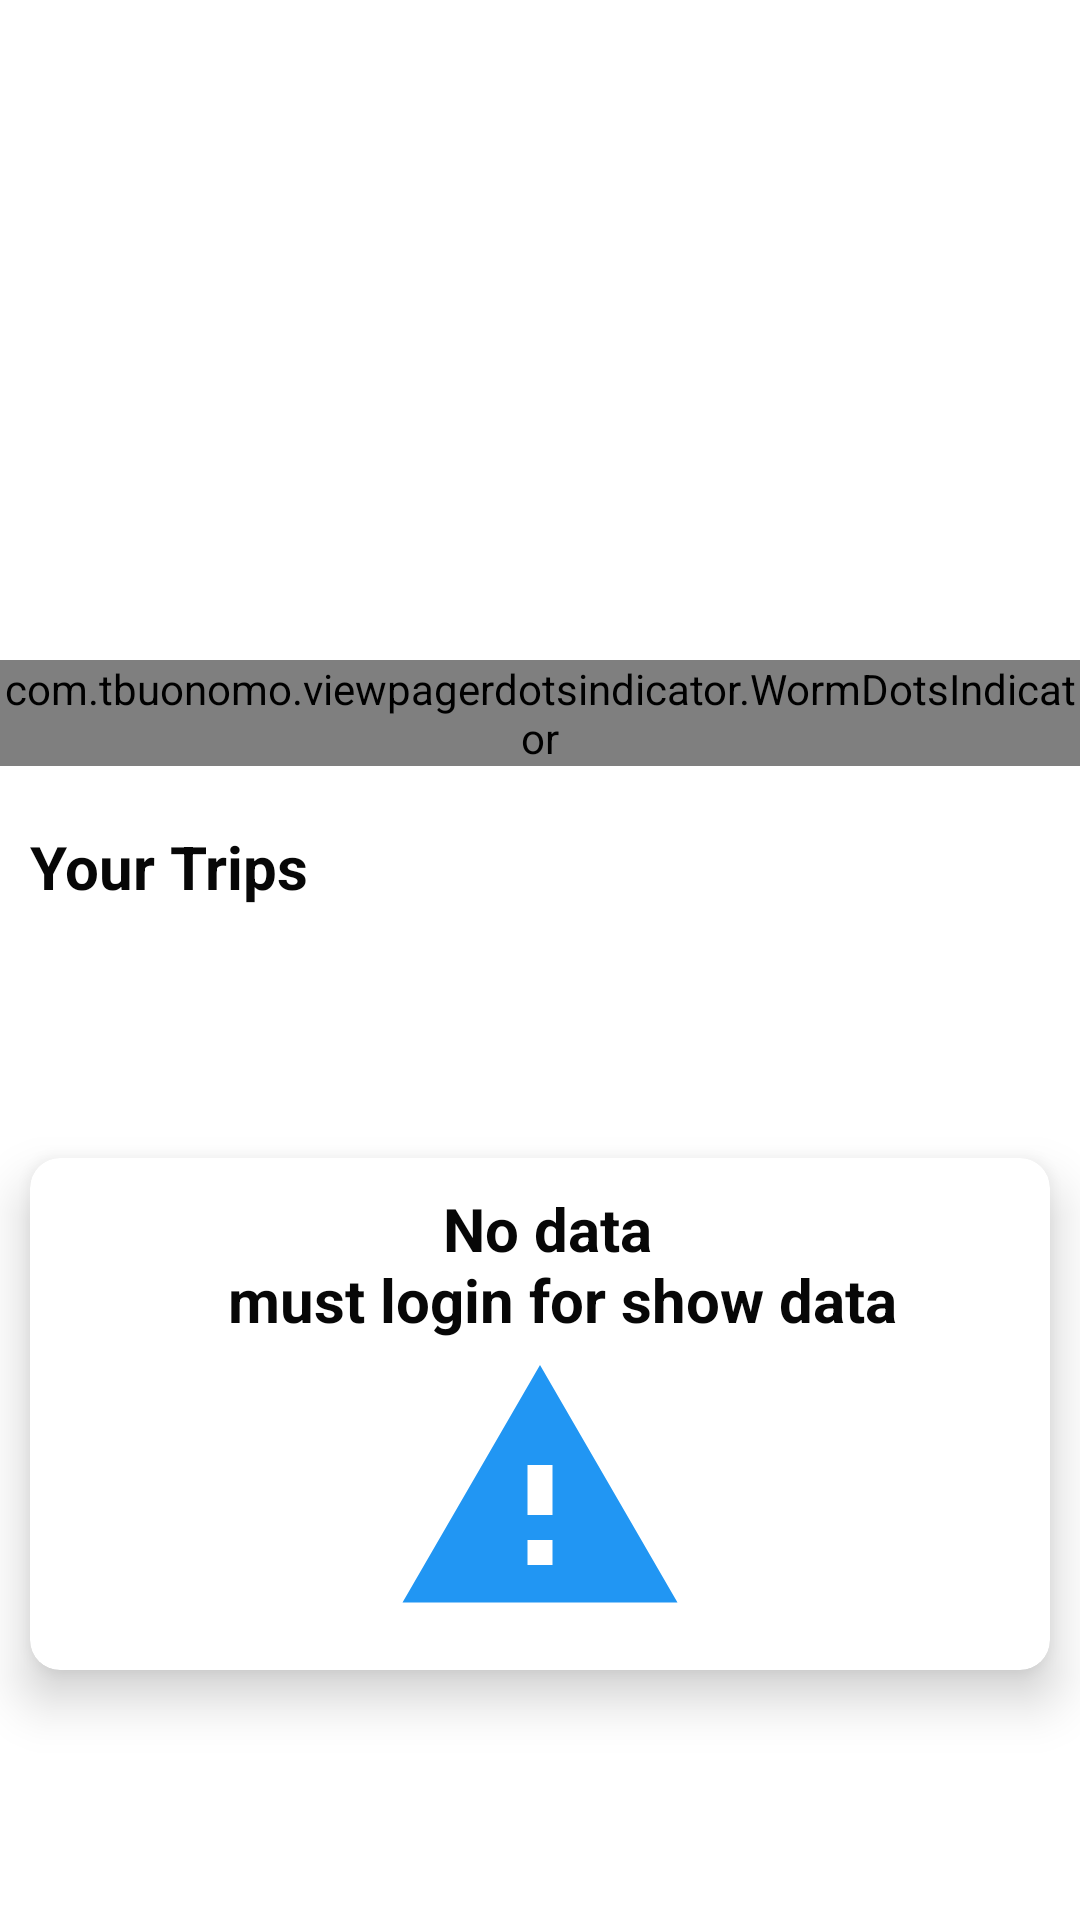

Locate icon controls on the screen. Image size 1080px×1920px, boxes as (x1, y1, x2, y2).
warning: (402, 1365, 678, 1603)
